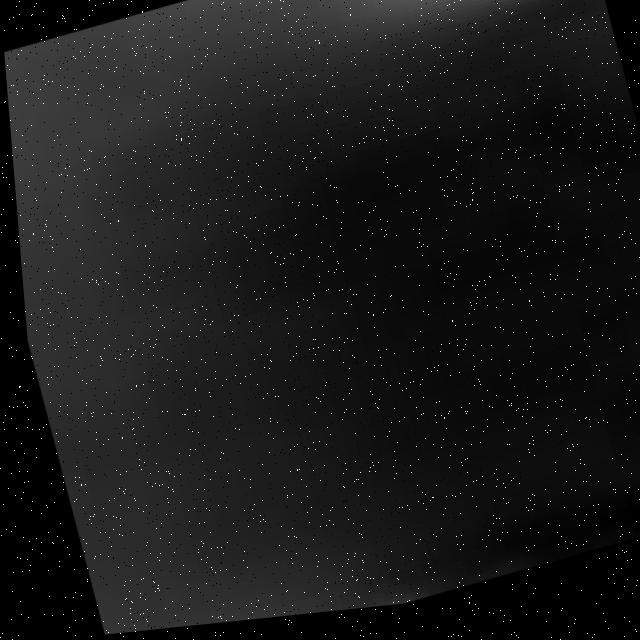person: (176, 1, 598, 78)
